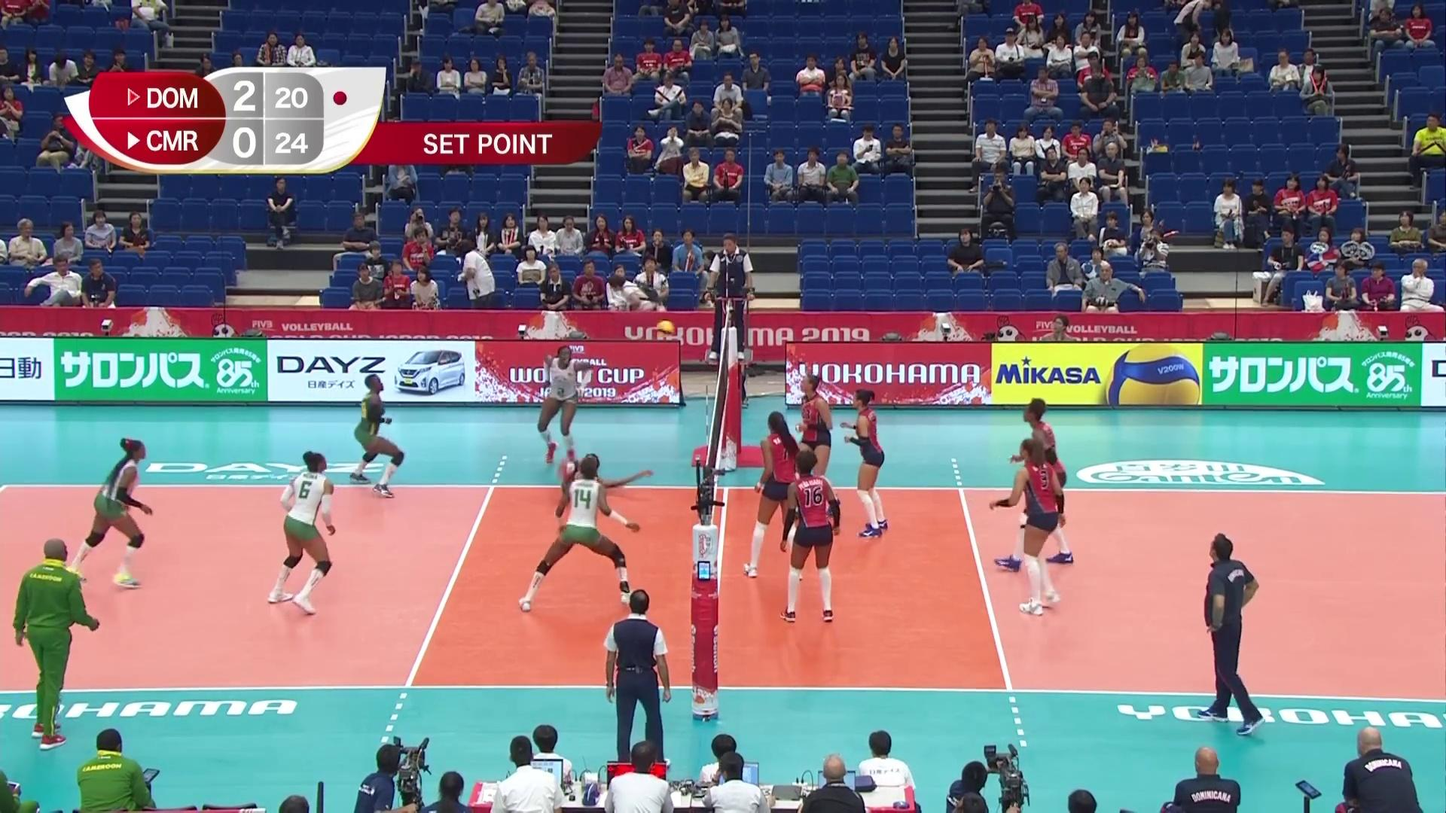player: (521, 456, 649, 613), (992, 397, 1071, 572), (775, 454, 853, 630), (993, 443, 1069, 620), (70, 439, 151, 590), (272, 456, 344, 618), (778, 373, 842, 531), (758, 411, 819, 576), (836, 390, 901, 542), (544, 443, 651, 523), (538, 348, 598, 464), (351, 375, 405, 498)
refree: (603, 589, 674, 764), (702, 229, 755, 363)
